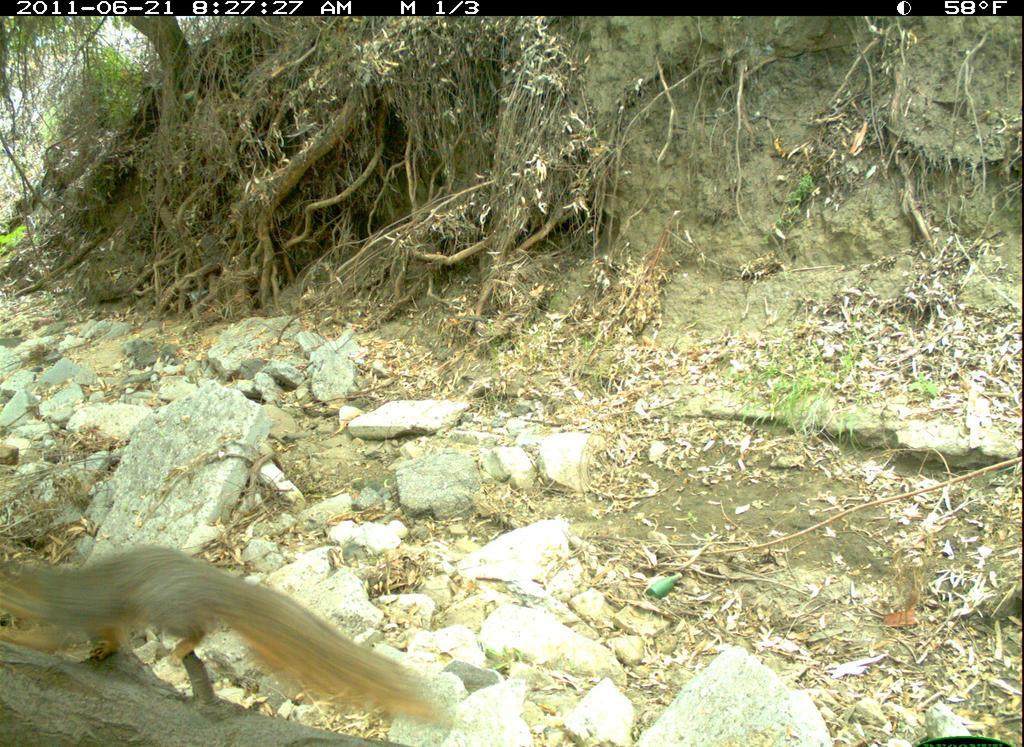squirrel: (3, 528, 457, 735)
